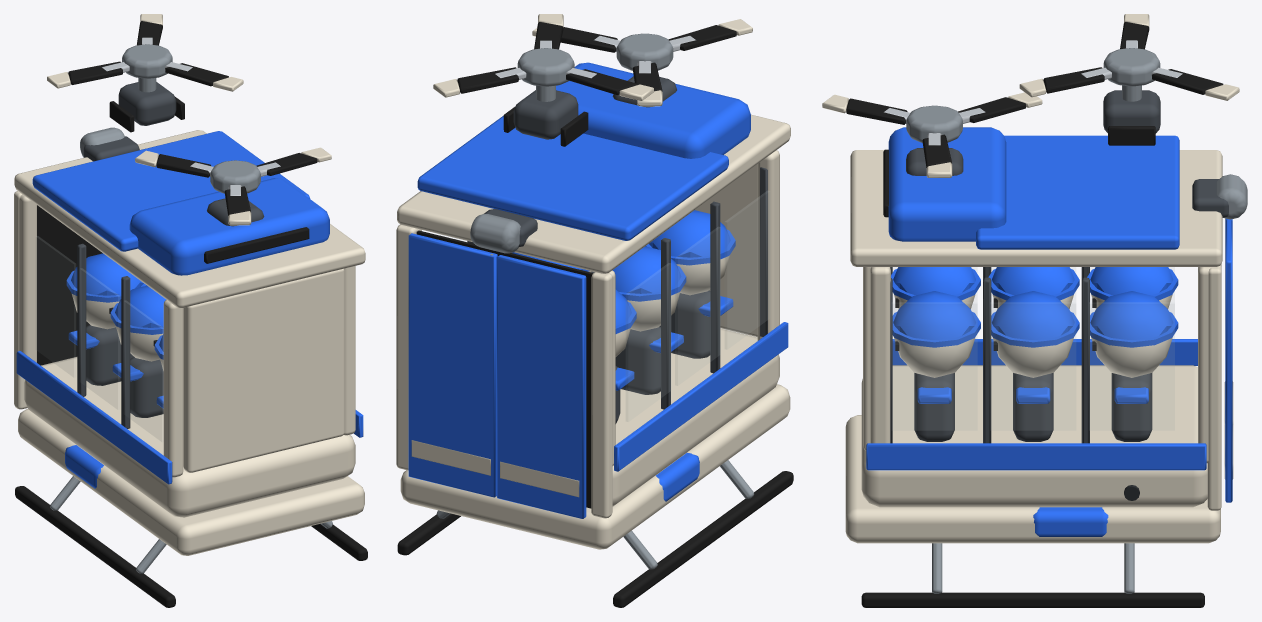
File: transport_chopper.glb
The picture shows the model from 3 angles, left to right: view 1: azimuth 30°, elevation 25°; view 2: azimuth 150°, elevation 25°; view 3: azimuth 270°, elevation 25°; orthographic projection. The views are drawn at different scales.
Parts seen in each view (by area): view 1: airframe__M_CreamPlastic, airframe__M_Team, airframe__M_ClearGlass, air_crown__M_Team, airframe__M_Licorice, airframe__M_SmokePlastic, air_skid_r__M_Licorice, tc_seat_3__M_Team, tc_seat_4__M_Team, spinner__M_Licorice, spinner_1__M_Licorice, tc_seat_3__M_SmokePlastic (+11 smaller); view 2: airframe__M_CreamPlastic, airframe__M_Team, tc_door_0__M_Team, tc_door_1__M_Team, airframe__M_ClearGlass, air_crown__M_Team, airframe__M_SmokePlastic, air_skid_r__M_Licorice, airframe__M_Licorice, tc_seat_5__M_Team, tc_seat_4__M_Team, spinner_1__M_Licorice (+16 smaller); view 3: airframe__M_CreamPlastic, airframe__M_Team, airframe__M_ClearGlass, air_crown__M_Team, airframe__M_SmokePlastic, air_skid_l__M_Licorice, tc_seat_2__M_Team, tc_seat_1__M_Team, tc_seat_0__M_Team, tc_seat_4__M_Team, tc_seat_5__M_Team, tc_seat_3__M_Team (+16 smaller).
Part boxes in pixels (bbox=[...]): airframe__M_CreamPlastic: bbox=[14, 130, 365, 555]; airframe__M_Team: bbox=[16, 131, 363, 488]; airframe__M_ClearGlass: bbox=[36, 236, 162, 441]; air_crown__M_Team: bbox=[129, 178, 329, 275]; airframe__M_Licorice: bbox=[37, 96, 184, 365]; airframe__M_SmokePlastic: bbox=[77, 82, 264, 428]; air_skid_r__M_Licorice: bbox=[15, 486, 175, 607]; tc_seat_3__M_Team: bbox=[66, 253, 146, 349]; tc_seat_4__M_Team: bbox=[110, 285, 166, 381]; spinner__M_Licorice: bbox=[156, 153, 317, 215]; spinner_1__M_Licorice: bbox=[68, 21, 228, 86]; tc_seat_3__M_SmokePlastic: bbox=[86, 325, 134, 385]; airframe__M_CreamPlastic: bbox=[396, 114, 790, 549]; airframe__M_Team: bbox=[417, 116, 788, 501]; tc_door_0__M_Team: bbox=[497, 255, 586, 518]; tc_door_1__M_Team: bbox=[408, 233, 497, 497]; airframe__M_ClearGlass: bbox=[437, 191, 769, 421]; air_crown__M_Team: bbox=[556, 62, 750, 158]; airframe__M_SmokePlastic: bbox=[467, 76, 767, 409]; air_skid_r__M_Licorice: bbox=[613, 471, 793, 607]; airframe__M_Licorice: bbox=[416, 106, 592, 508]; tc_seat_5__M_Team: bbox=[645, 210, 735, 316]; tc_seat_4__M_Team: bbox=[612, 246, 686, 352]; spinner_1__M_Licorice: bbox=[457, 22, 637, 95]; airframe__M_CreamPlastic: bbox=[845, 150, 1222, 543]; airframe__M_Team: bbox=[866, 135, 1206, 536]; airframe__M_ClearGlass: bbox=[892, 267, 1174, 429]; air_crown__M_Team: bbox=[888, 127, 1006, 241]; airframe__M_SmokePlastic: bbox=[890, 90, 1228, 443]; air_skid_l__M_Licorice: bbox=[861, 592, 1204, 607]; tc_seat_2__M_Team: bbox=[892, 291, 980, 403]; tc_seat_1__M_Team: bbox=[991, 291, 1079, 403]; tc_seat_0__M_Team: bbox=[1090, 291, 1178, 403]; tc_seat_4__M_Team: bbox=[988, 267, 1079, 300]; tc_seat_5__M_Team: bbox=[891, 267, 980, 300]; tc_seat_3__M_Team: bbox=[1087, 267, 1178, 300].
Size of the model in its own units: 0.822 by 1.72 by 1.34.
